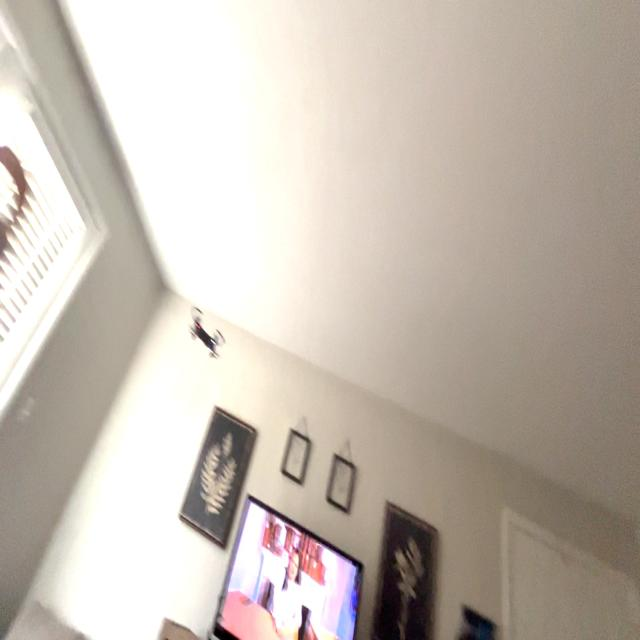drone: (178, 288, 229, 366)
